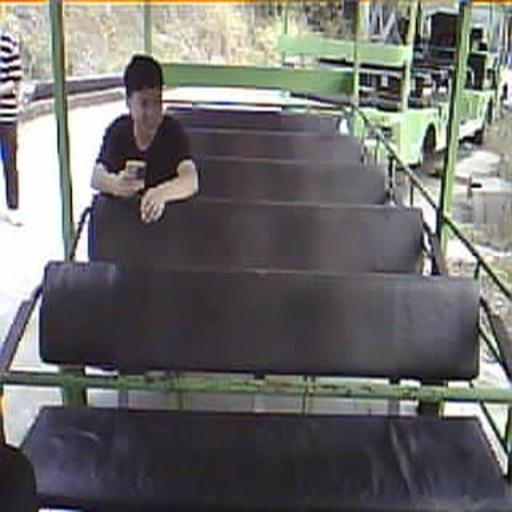persona: (90, 52, 200, 226)
